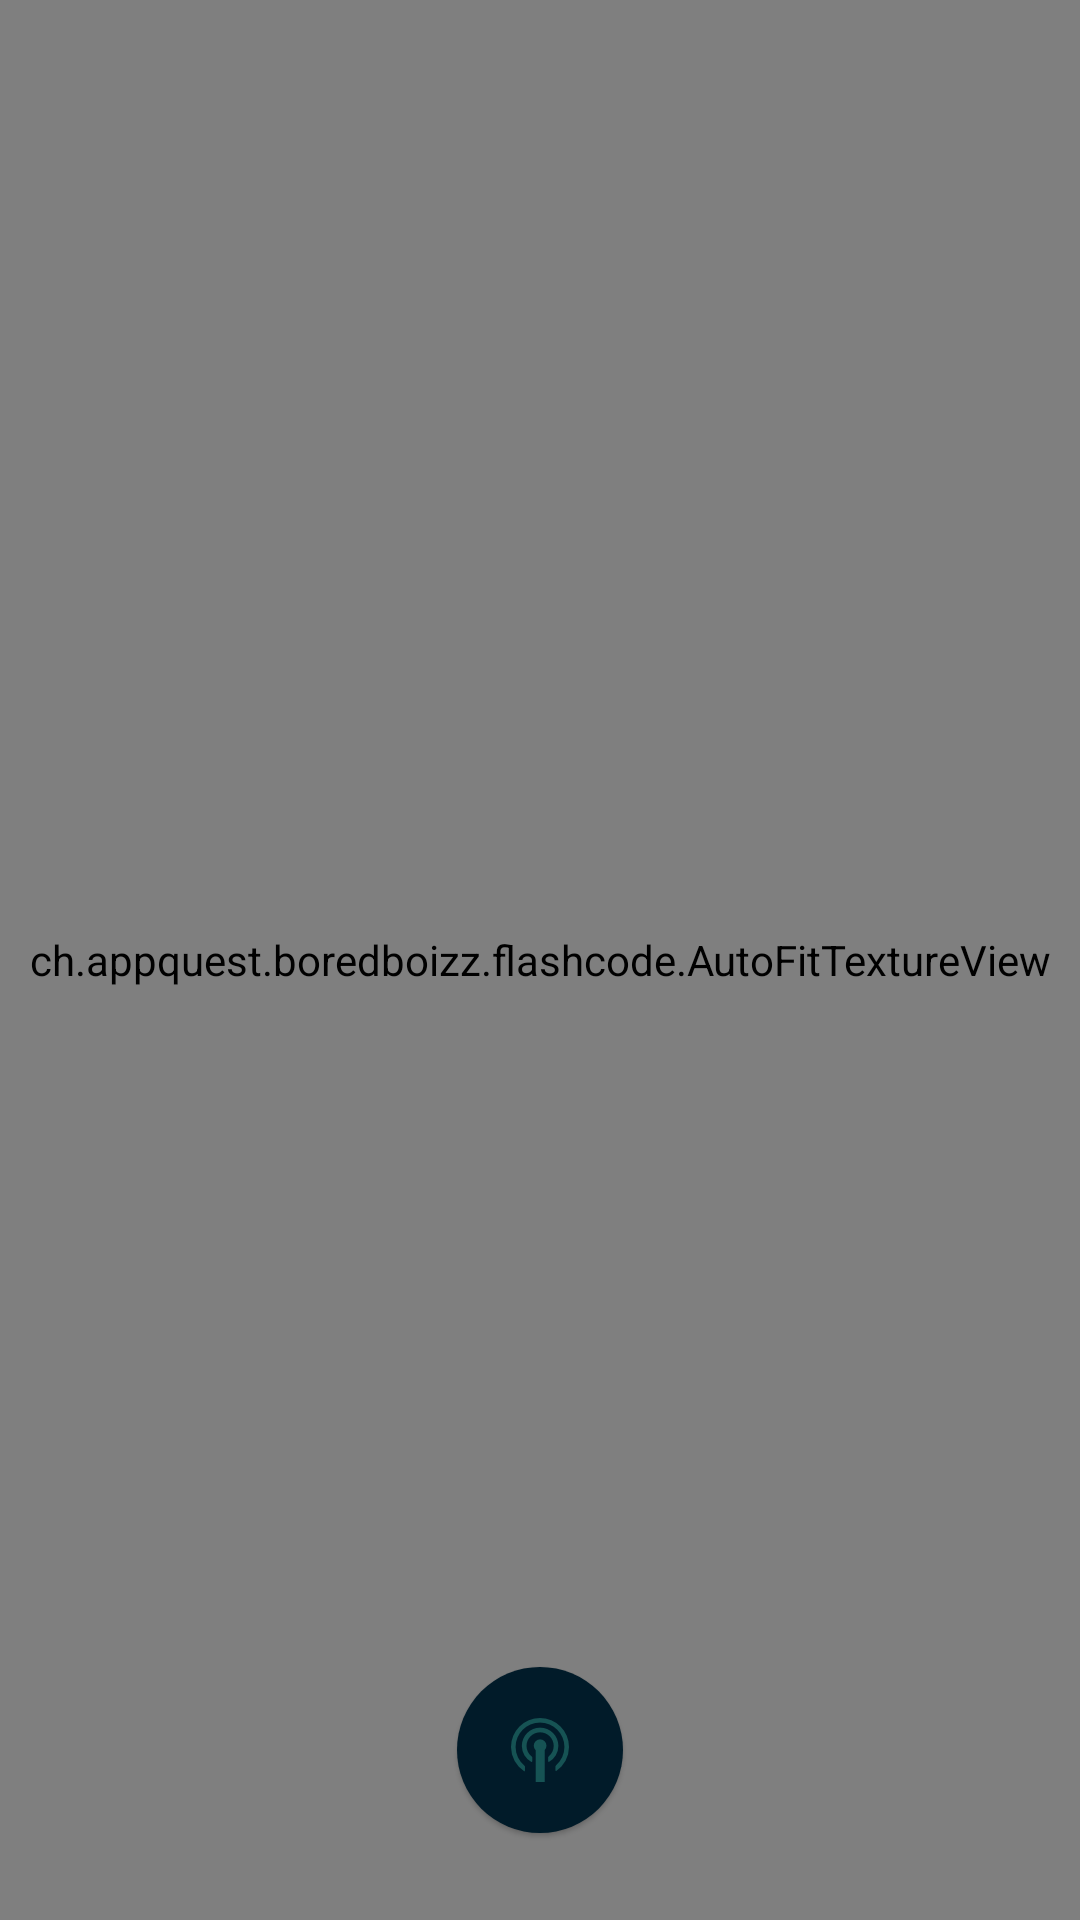

Locate icon controls on the screen. Image size 1080 x 1920, boxes as (x1, y1, x2, y2).
receive: (457, 1667, 623, 1833)
